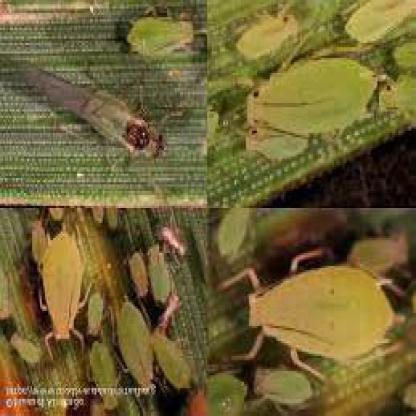schizaphis graminum: (249, 264, 397, 361), (245, 57, 378, 136), (42, 231, 84, 343), (115, 299, 153, 402), (236, 15, 299, 62), (130, 16, 193, 59), (152, 333, 192, 392)
